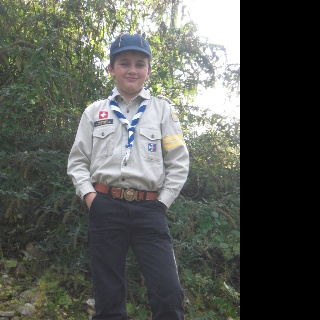without_mask: (113, 50, 149, 93)
